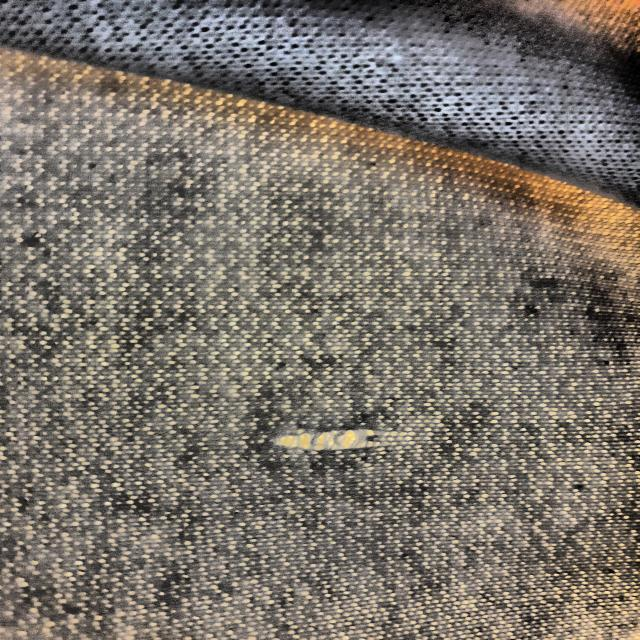cut: (432, 343, 451, 371), (430, 279, 452, 303), (434, 306, 454, 325)
